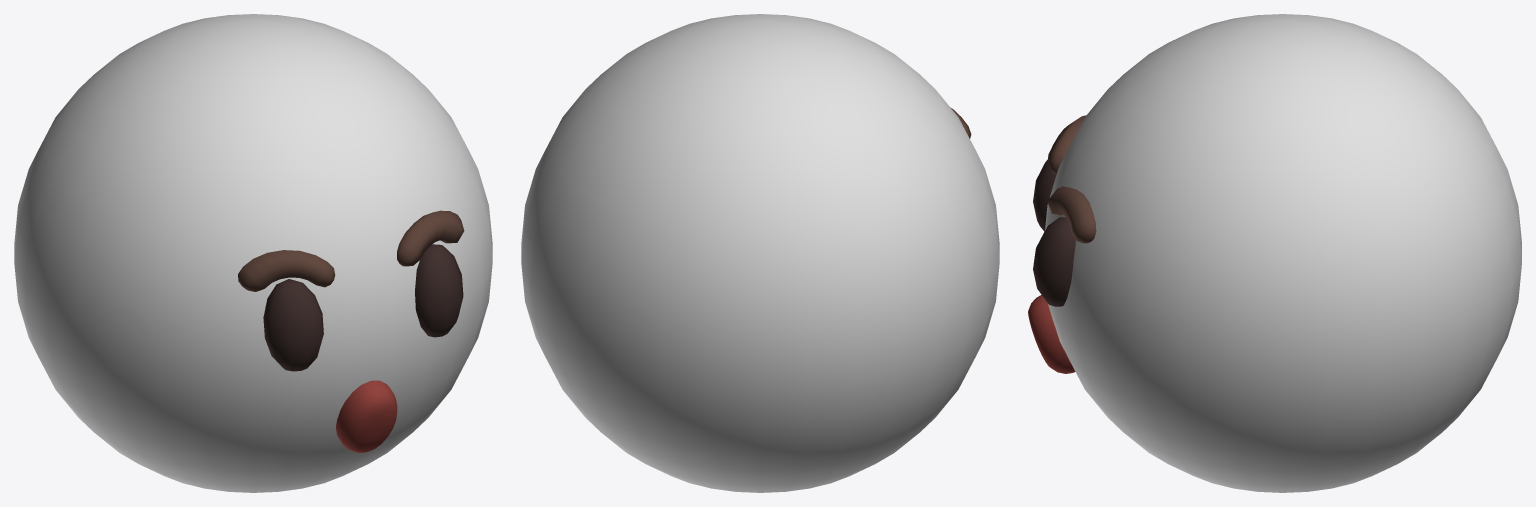
The model's file is face_surprised.glb.
3 renders of one model, left to right at view 1: azimuth 30°, elevation 25°; view 2: azimuth 150°, elevation 25°; view 3: azimuth 270°, elevation 25°, orthographic.
Visible parts, largest first — view 1: face_surprised; view 2: face_surprised; view 3: face_surprised.
Part boxes in pixels (x1,y1,x2,y2): face_surprised: [14, 14, 492, 492]; face_surprised: [521, 14, 999, 492]; face_surprised: [1028, 14, 1521, 492].
Size of the model in its own units: 1 by 1 by 1.03.
